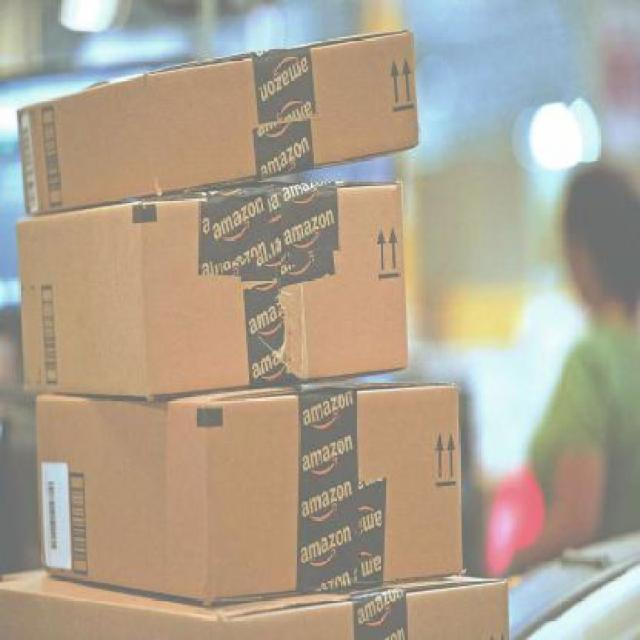box: (33, 382, 461, 603), (17, 180, 412, 398), (16, 29, 420, 218), (0, 569, 506, 640)
